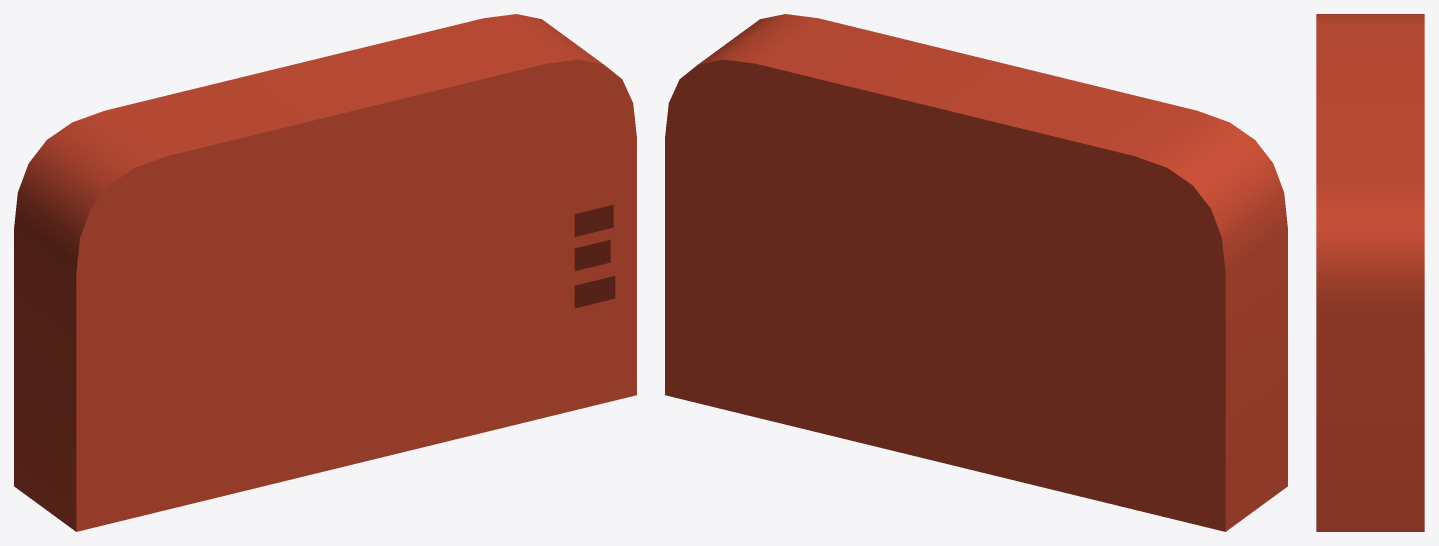
Rendered from town_name_01.FBX.
3 views of the same model, side by side, from view 1: azimuth 30°, elevation 25°; view 2: azimuth 150°, elevation 25°; view 3: azimuth 270°, elevation 25° (orthographic). The views are drawn at different scales.
Parts seen in each view (by area): view 1: town_name_01; view 2: town_name_01; view 3: town_name_01.
Boxes of the visible parts, x1,y1,x2,y2 form: town_name_01: (14, 14, 636, 531); town_name_01: (665, 14, 1287, 531); town_name_01: (1316, 14, 1424, 531).
Size of the model in its own units: 464 by 89.26 by 280.
Materials: 1 (1 with a texture image).
